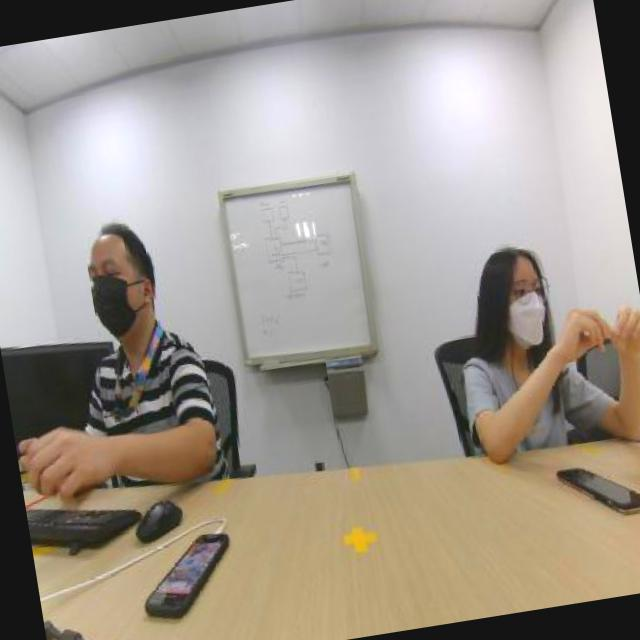Person: (12, 179, 241, 485), (414, 169, 639, 448)
